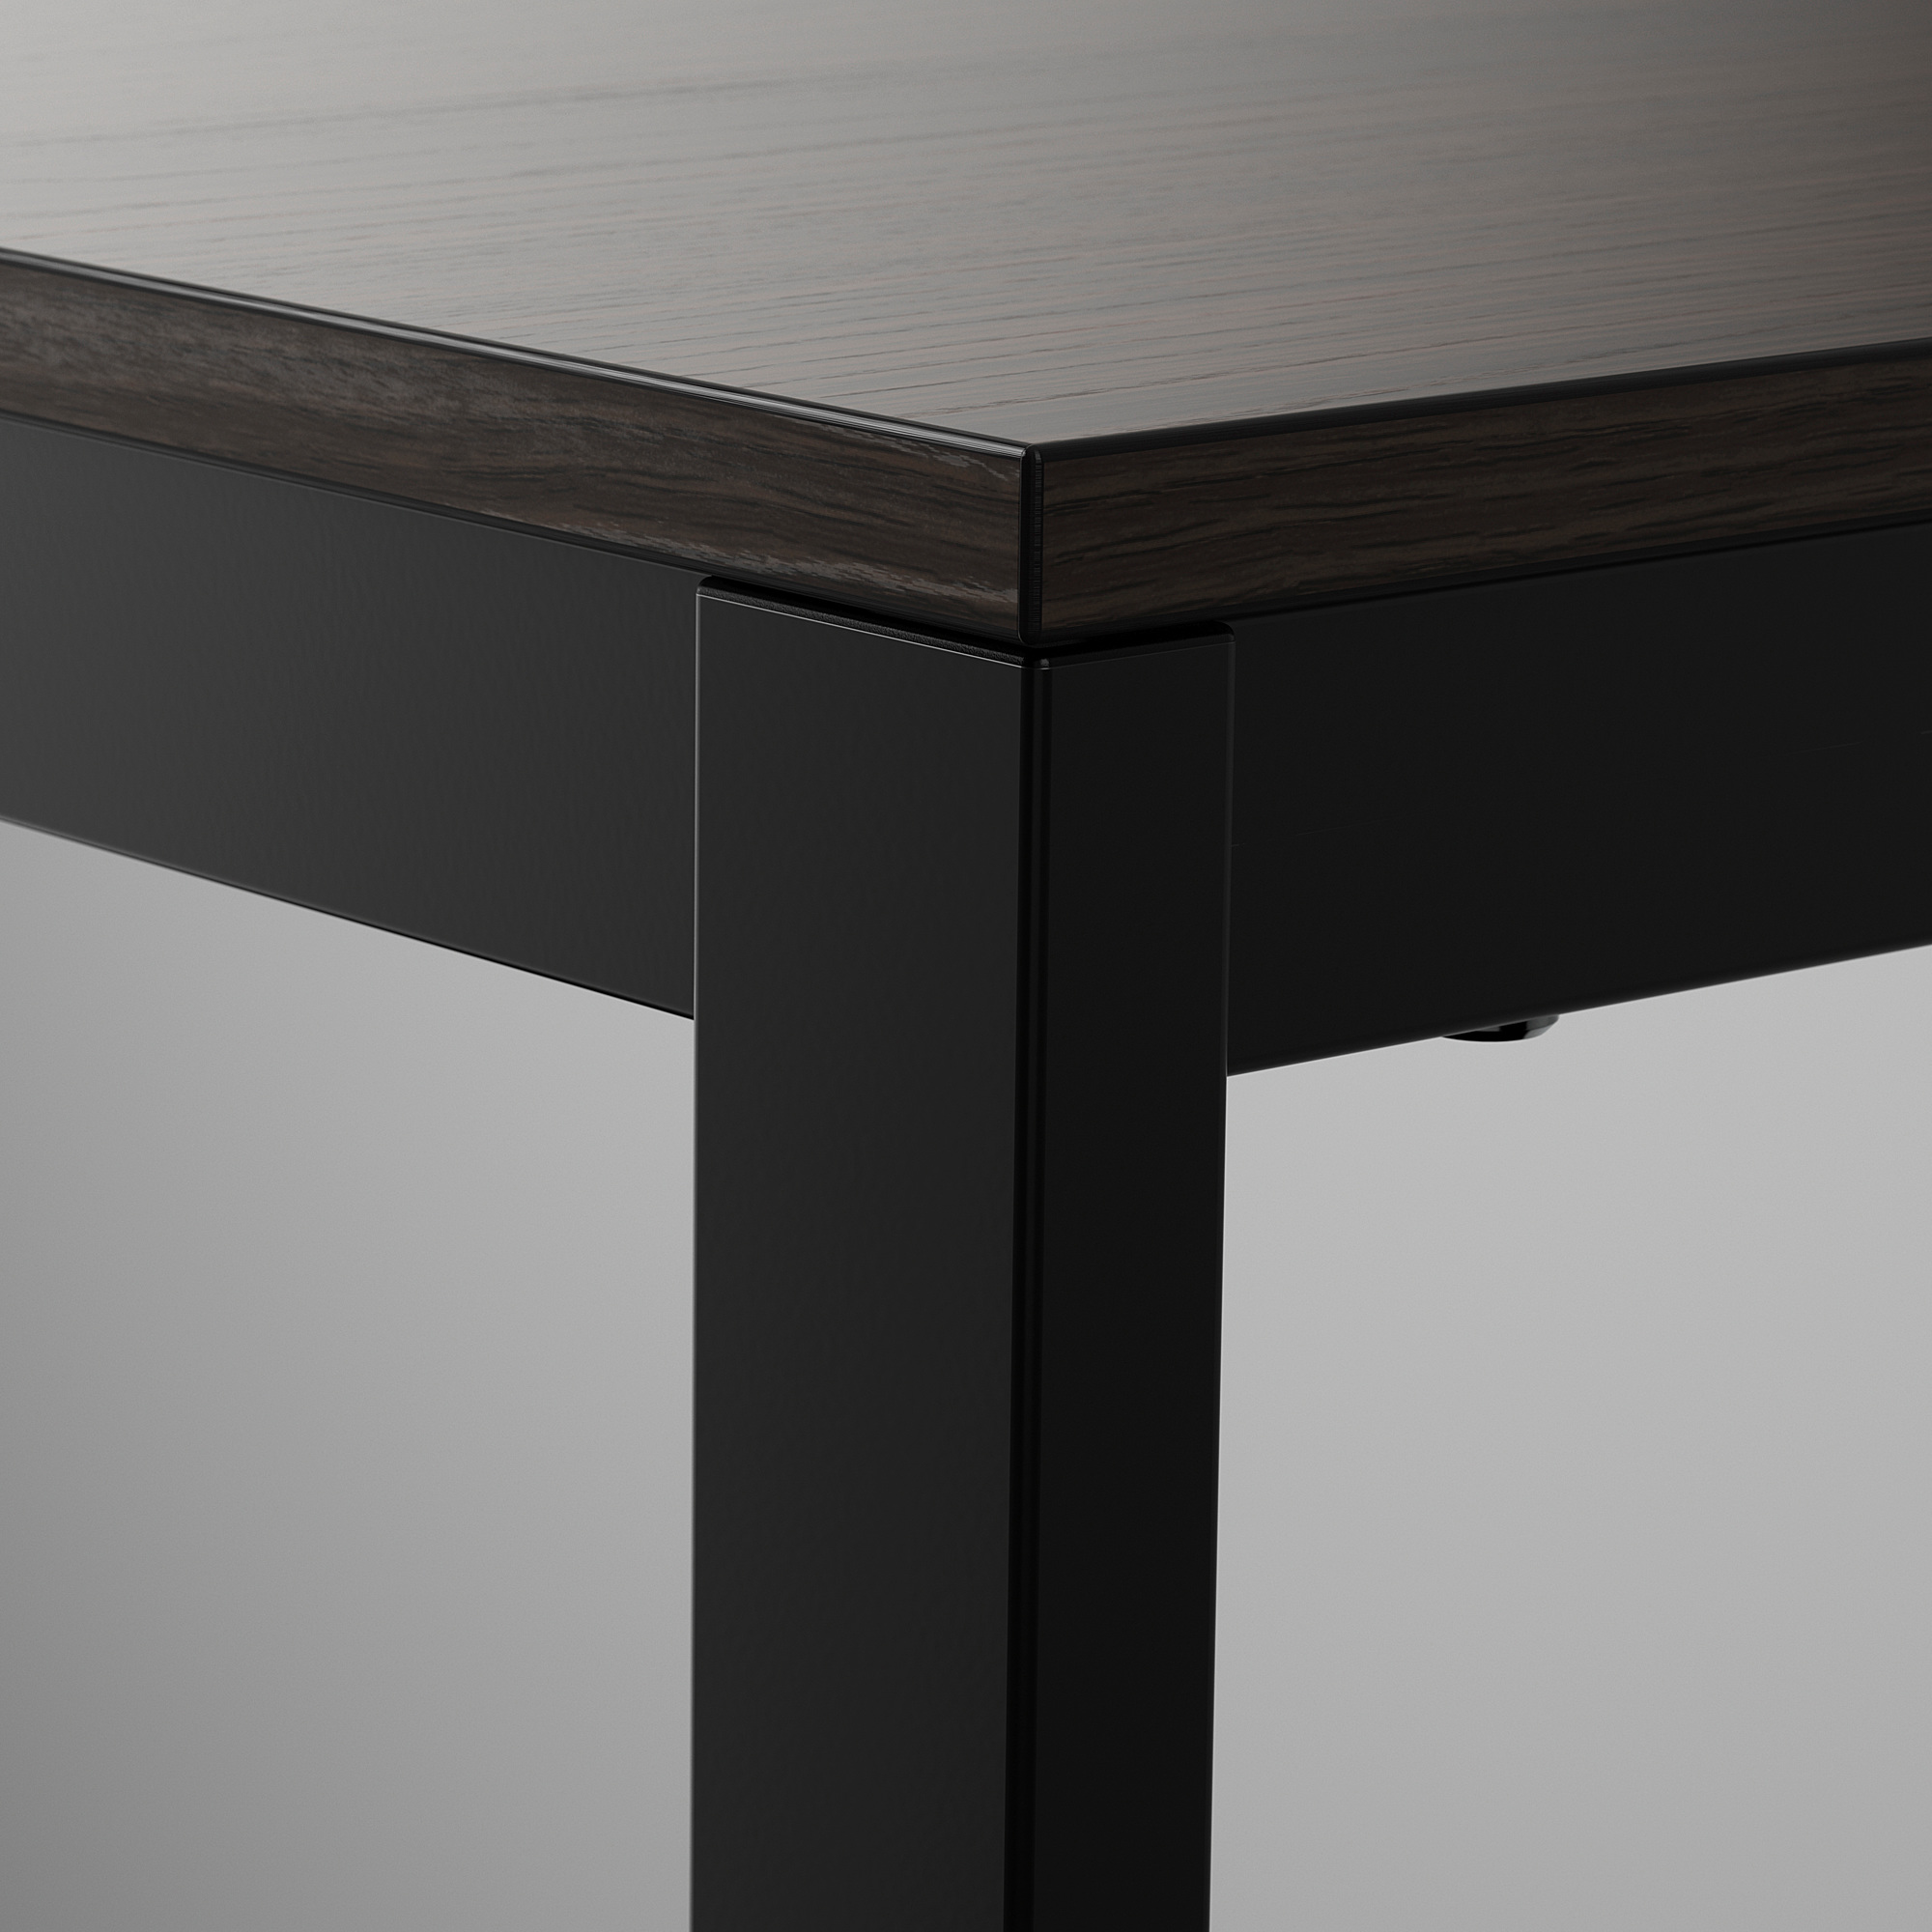meja: (2, 234, 1886, 1907)
